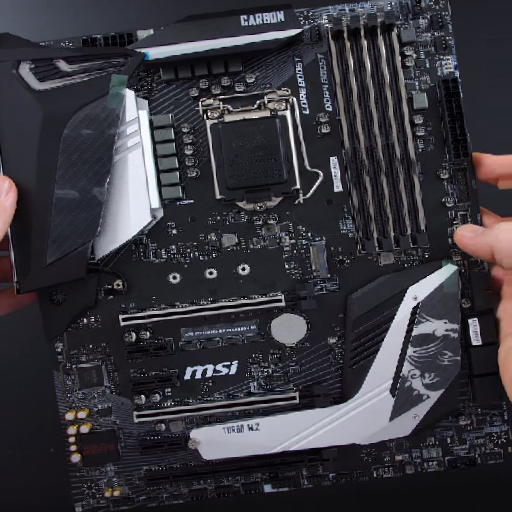CPU: (202, 98, 304, 212)
GPU: (118, 284, 318, 327), (130, 385, 331, 426)
MOTHERBOARD: (8, 7, 509, 503)
RAM: (324, 10, 431, 260)
SSD: (306, 239, 332, 282)
